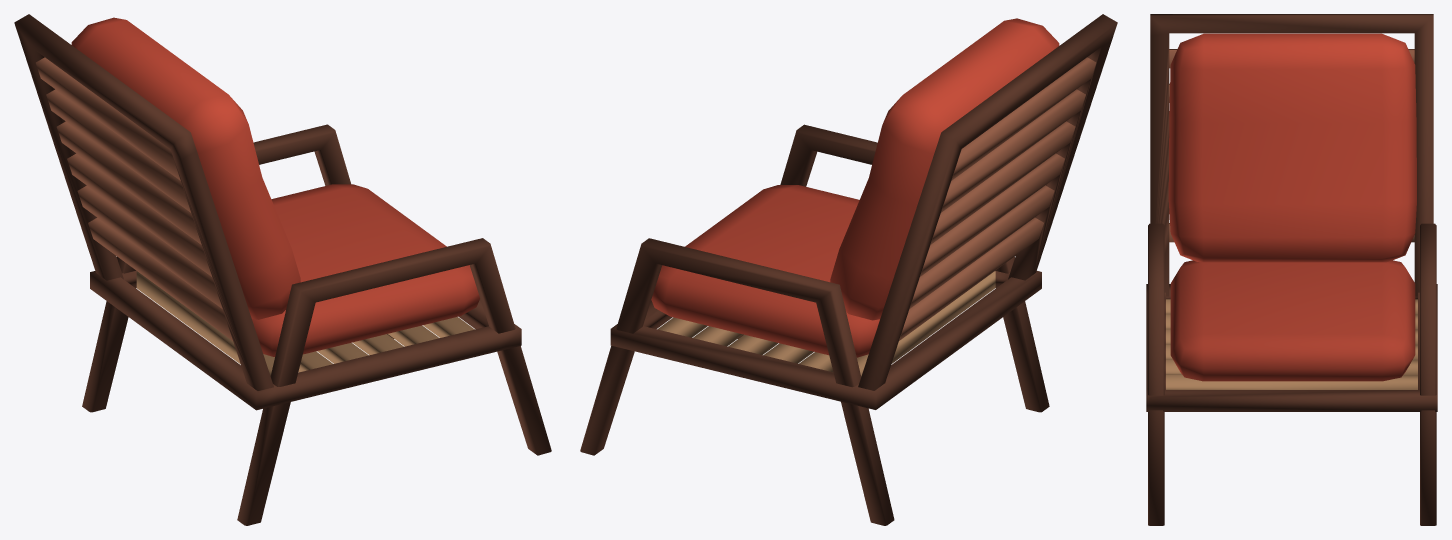
Rendered from Couch_03.glb.
The picture shows the model from 3 angles, left to right: view 1: azimuth 30°, elevation 25°; view 2: azimuth 150°, elevation 25°; view 3: azimuth 270°, elevation 25°; orthographic projection. The views are drawn at different scales.
Visible parts, largest first — view 1: Couch_03; view 2: Couch_03; view 3: Couch_03.
Part boxes in pixels (x1,y1,x2,y2): Couch_03: [14, 14, 551, 525]; Couch_03: [580, 14, 1117, 525]; Couch_03: [1146, 14, 1437, 525].
Size of what is drawn, in the model's own units: 1.44 by 1.49 by 1.11.
Materials: 1 (1 with a texture image).
